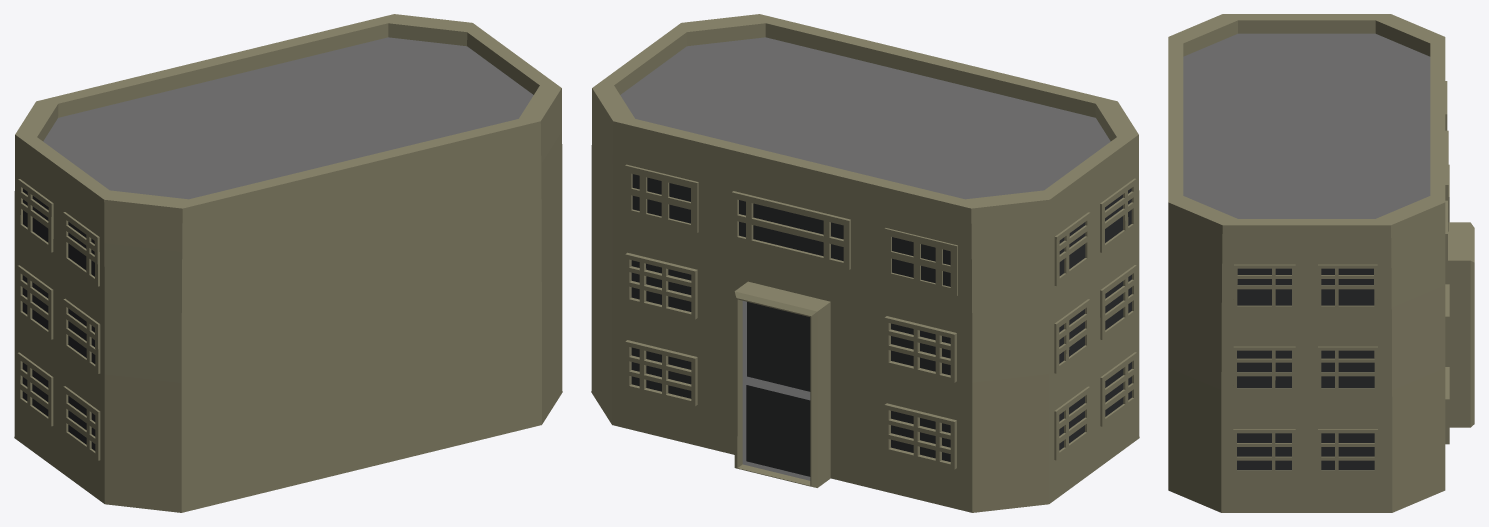
The model's file is house-17.glb.
3 renders of one model, left to right at view 1: azimuth 30°, elevation 25°; view 2: azimuth 150°, elevation 25°; view 3: azimuth 270°, elevation 25°, orthographic. The views are drawn at different scales.
Bounding box in the file's own units: 3.11 × 1.96 × 1.89.
